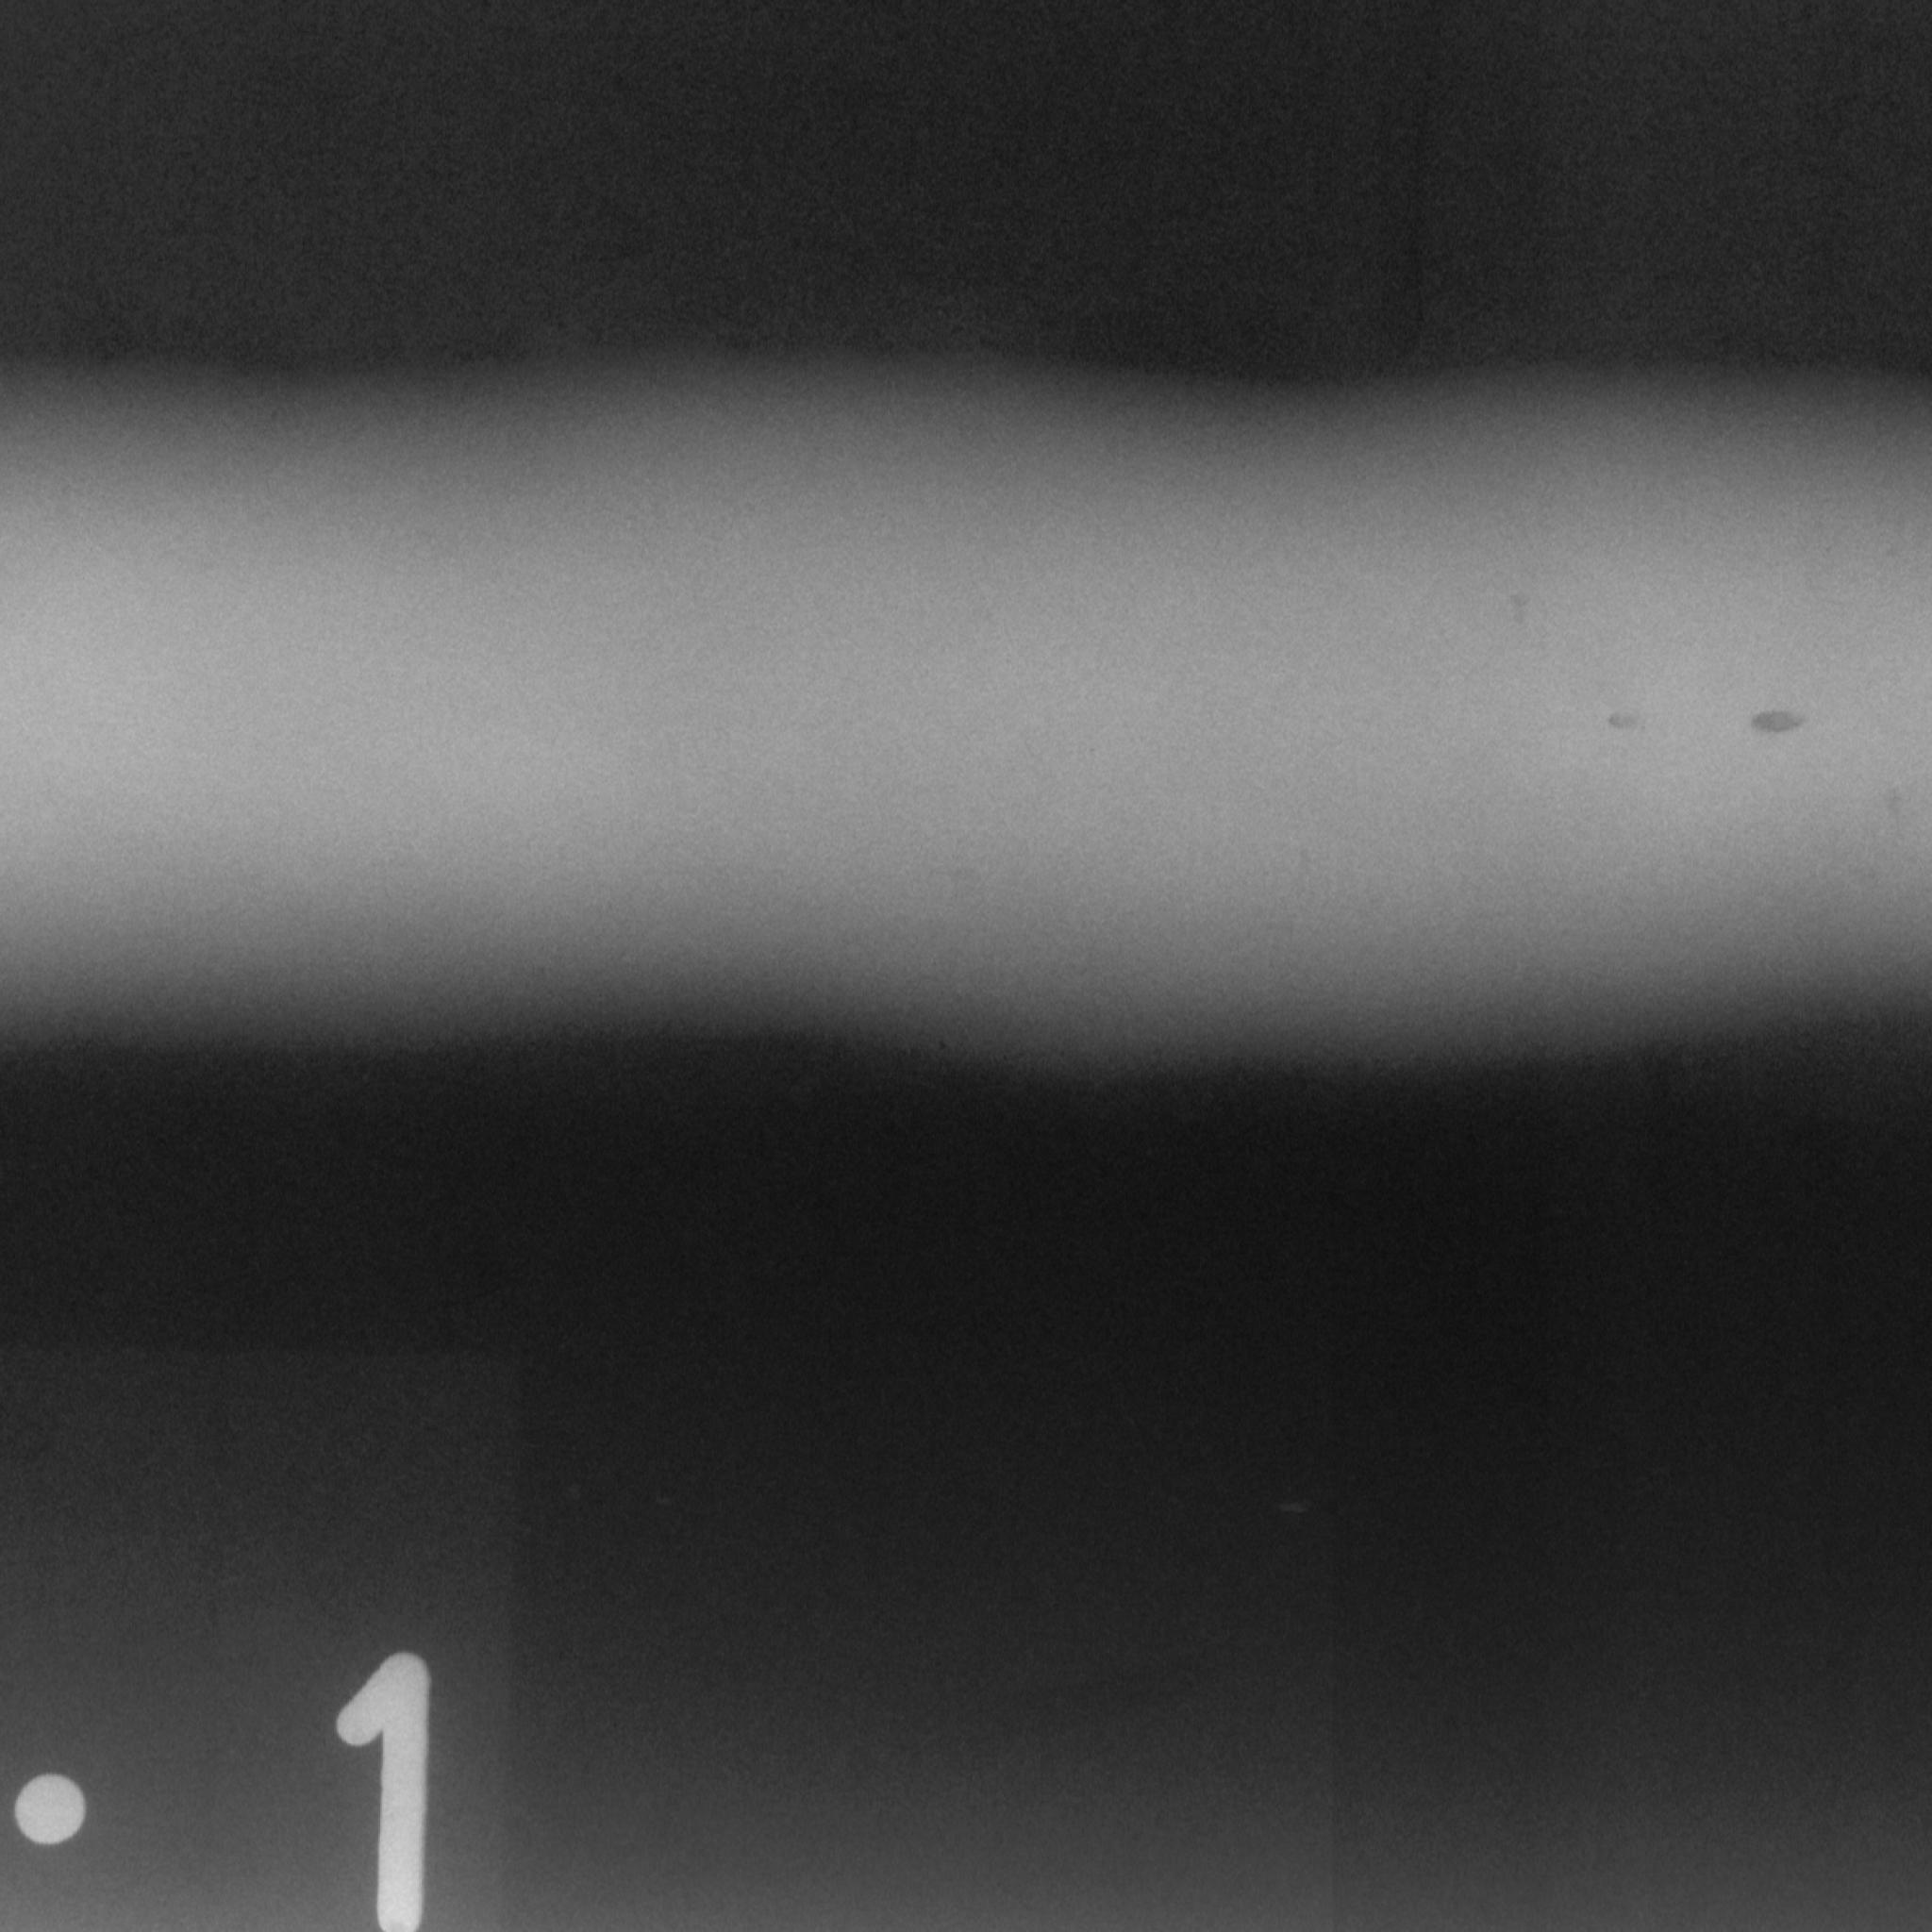Solda Ruim: (0, 269, 1932, 1114)
